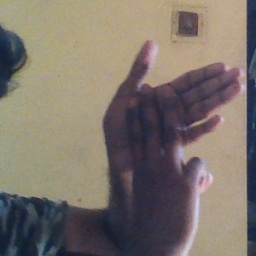M: (86, 37, 245, 224)
